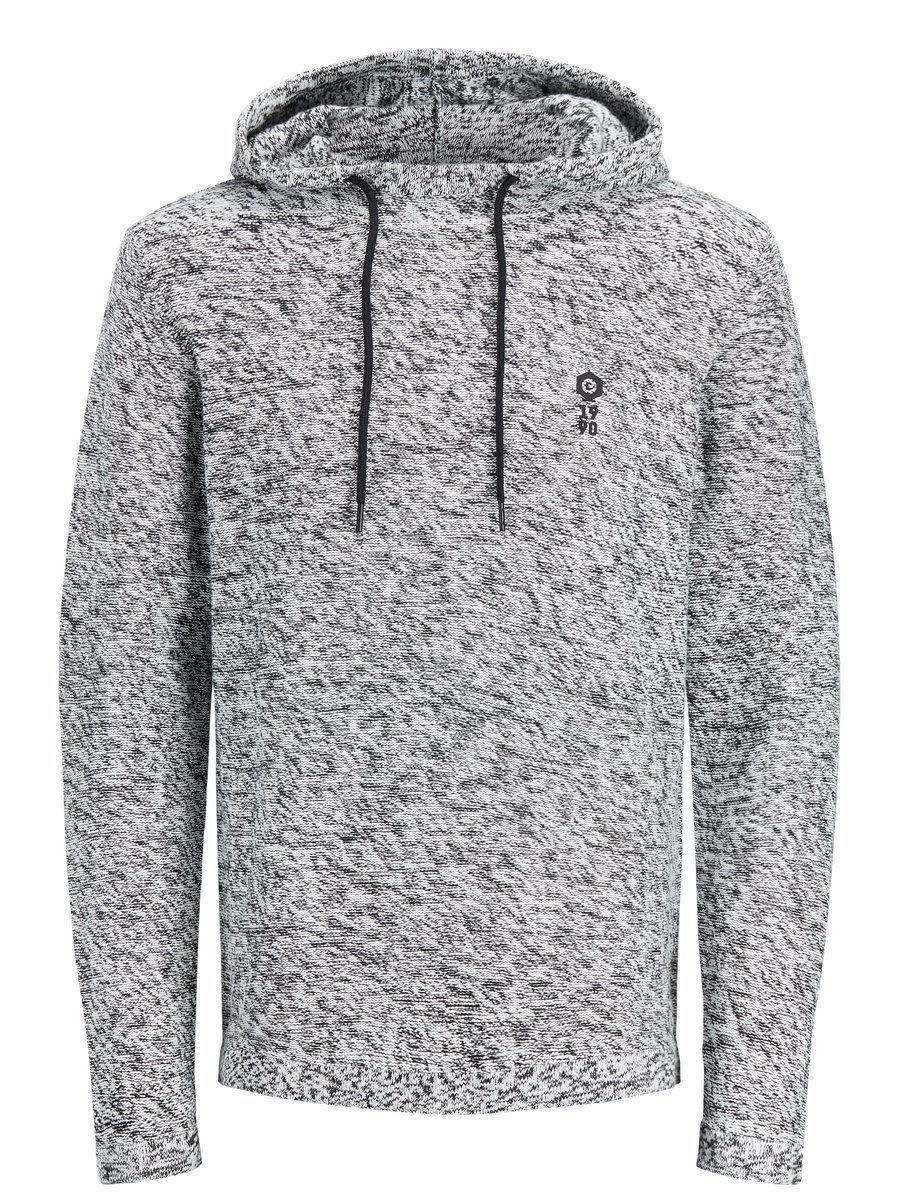teeshirt: (23, 45, 842, 1185)
